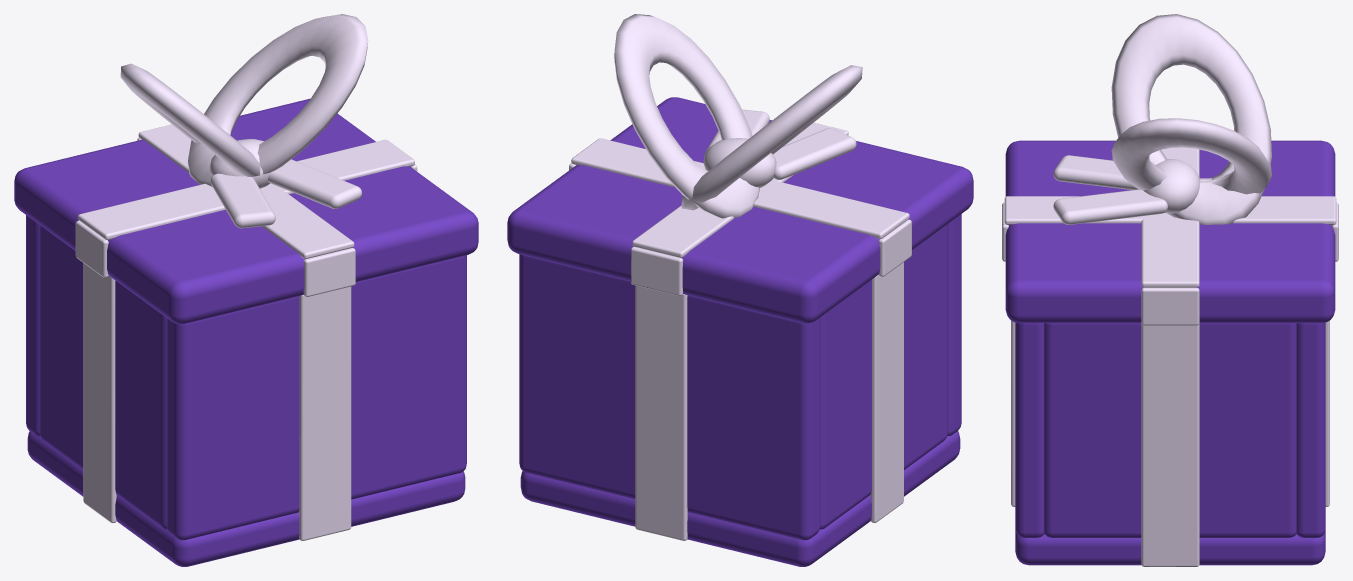
File: gift-aurora-1.glb
3 renders of one model, left to right at view 1: azimuth 30°, elevation 25°; view 2: azimuth 150°, elevation 25°; view 3: azimuth 270°, elevation 25°, orthographic.
Visible parts, largest first — view 1: Gift_Body, Gift_Lid, Gift_Bow_Loop_R, Gift_Bow, Gift_Bow_Loop_L; view 2: Gift_Body, Gift_Lid, Gift_Bow_Loop_R, Gift_Bow_Loop_L, Gift_Bow; view 3: Gift_Body, Gift_Lid, Gift_Bow_Loop_L, Gift_Bow_Loop_R, Gift_Bow.
Boxes of the visible parts, x1=… form: Gift_Body: x1=26, y1=215, x2=466, y2=566; Gift_Lid: x1=14, y1=98, x2=478, y2=324; Gift_Bow_Loop_R: x1=187, y1=14, x2=368, y2=186; Gift_Bow: x1=209, y1=139, x2=362, y2=228; Gift_Bow_Loop_L: x1=120, y1=63, x2=260, y2=176; Gift_Body: x1=519, y1=214, x2=961, y2=566; Gift_Lid: x1=507, y1=97, x2=973, y2=323; Gift_Bow_Loop_R: x1=614, y1=14, x2=759, y2=218; Gift_Bow_Loop_L: x1=681, y1=65, x2=862, y2=210; Gift_Bow: x1=703, y1=109, x2=856, y2=188; Gift_Body: x1=1011, y1=320, x2=1329, y2=566; Gift_Lid: x1=1002, y1=140, x2=1338, y2=325; Gift_Bow_Loop_L: x1=1111, y1=14, x2=1271, y2=224; Gift_Bow_Loop_R: x1=1111, y1=118, x2=1271, y2=194; Gift_Bow: x1=1053, y1=155, x2=1200, y2=224.
Bounding box in the file's own units: 0.928 × 1.23 × 0.868.
